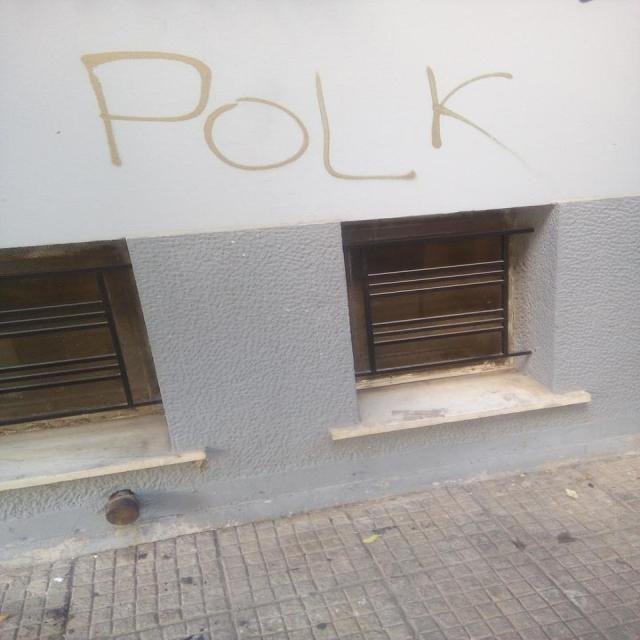nonspitting: (82, 48, 514, 182)
